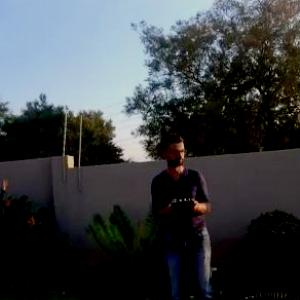follow: (148, 126, 219, 299)
